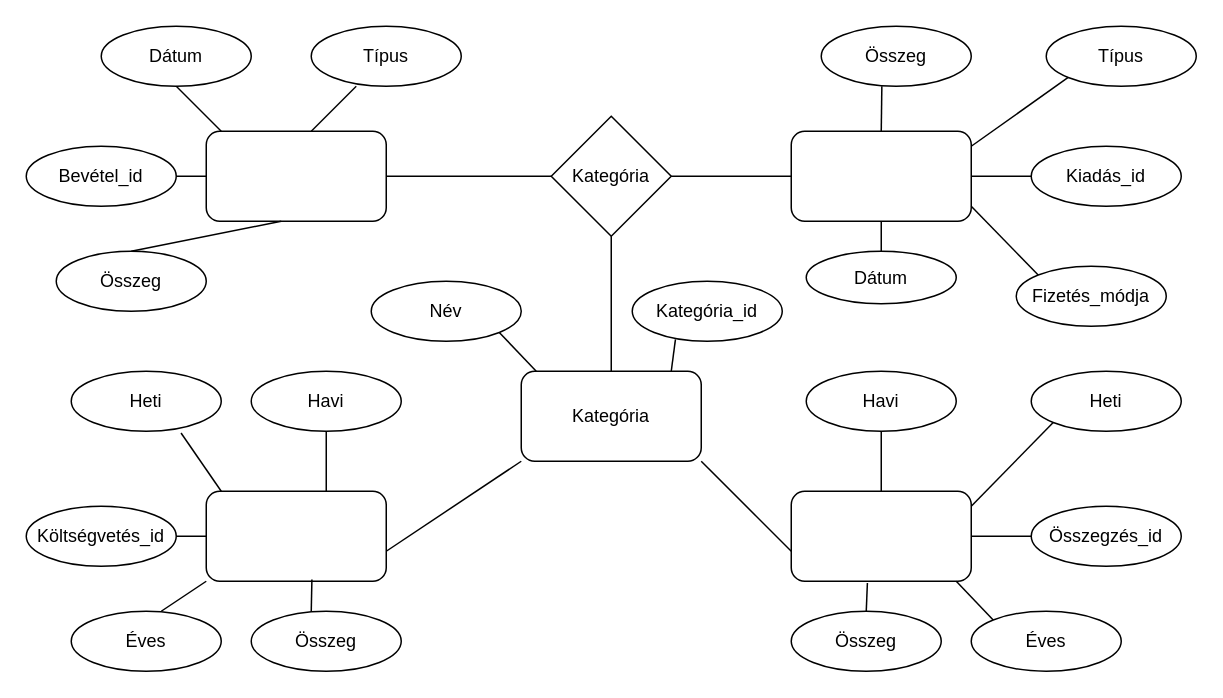
Some shapes in this 1223 by 698 pixel diagram are drawn without their labels. Here are the shapes that lost their labels. From the top down, the box of each, then its label:
(205, 130, 386, 221): Bevétel
(790, 130, 971, 221): Kiadás
(205, 490, 386, 581): Költségvetés
(790, 490, 971, 581): Összegzés
